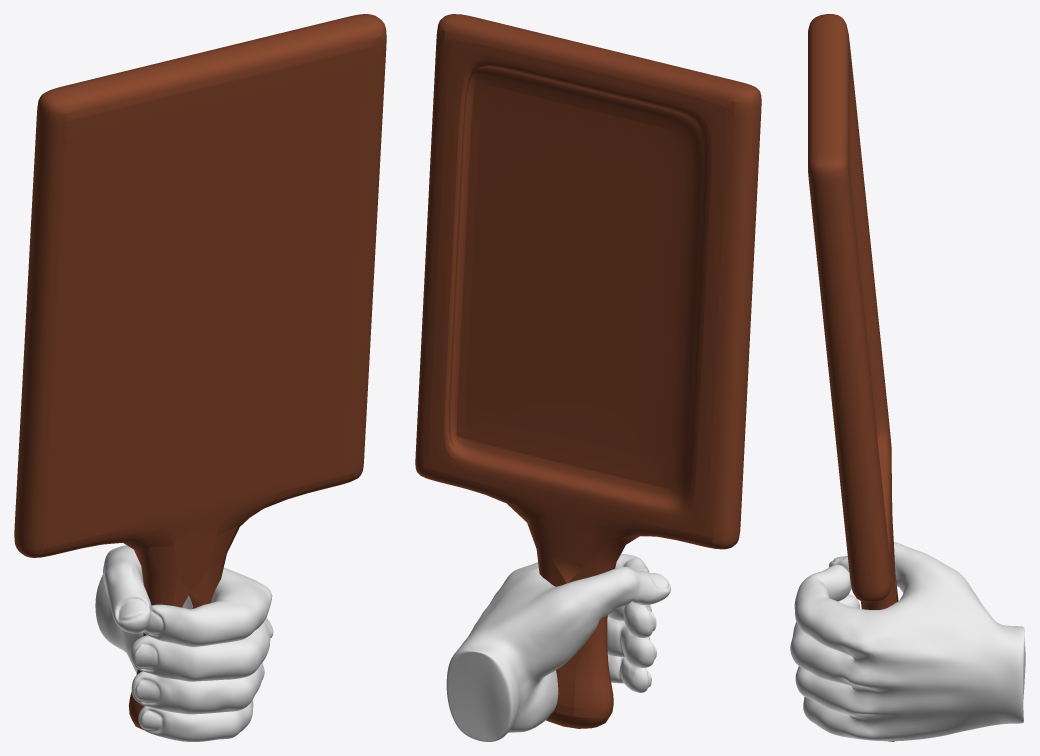
Rendered from левая с доской.fbx.
The picture shows the model from 3 angles, left to right: view 1: azimuth 30°, elevation 25°; view 2: azimuth 150°, elevation 25°; view 3: azimuth 270°, elevation 25°; orthographic projection. The views are drawn at different scales.
Parts seen in each view (by area): view 1: левая рука.001; view 2: левая рука.001; view 3: левая рука.001.
Part boxes in pixels (x1,y1,x2,y2): левая рука.001: [14, 14, 386, 741]; левая рука.001: [415, 14, 761, 741]; левая рука.001: [790, 14, 1025, 741].
Size of the model in its own units: 17.46 by 34.01 by 11.2.
